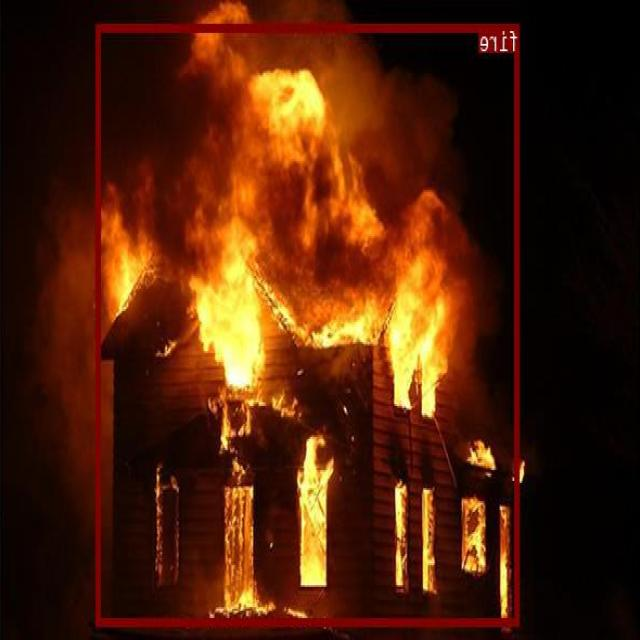fire: (97, 24, 520, 626)
